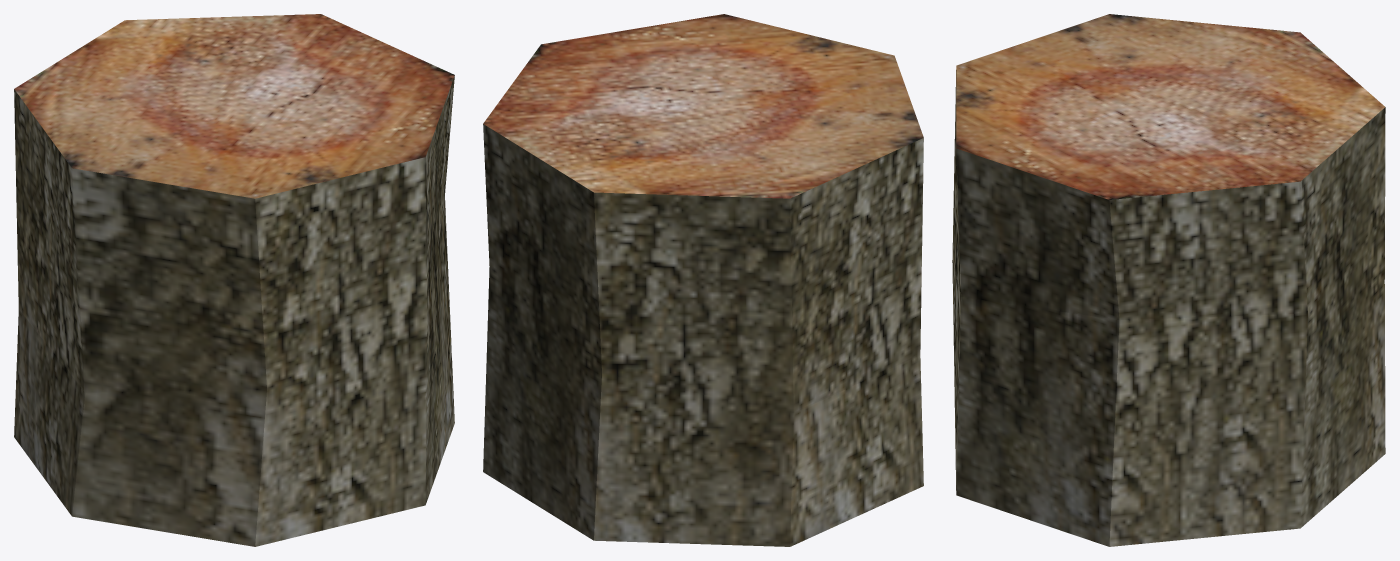
The model's file is Trunk.glb.
3 views of the same model, side by side, from view 1: azimuth 30°, elevation 25°; view 2: azimuth 150°, elevation 25°; view 3: azimuth 270°, elevation 25° (orthographic).
Parts seen in each view (by area): view 1: Trunk; view 2: Trunk; view 3: Trunk.
Part boxes in pixels (left/top/right/bottom): Trunk: left=14, top=14, right=454, bottom=546; Trunk: left=483, top=14, right=923, bottom=546; Trunk: left=952, top=14, right=1385, bottom=546.
Size of the model in its own units: 0.4436 by 0.3857 by 0.4363.
Materials: 1 (1 with a texture image).
